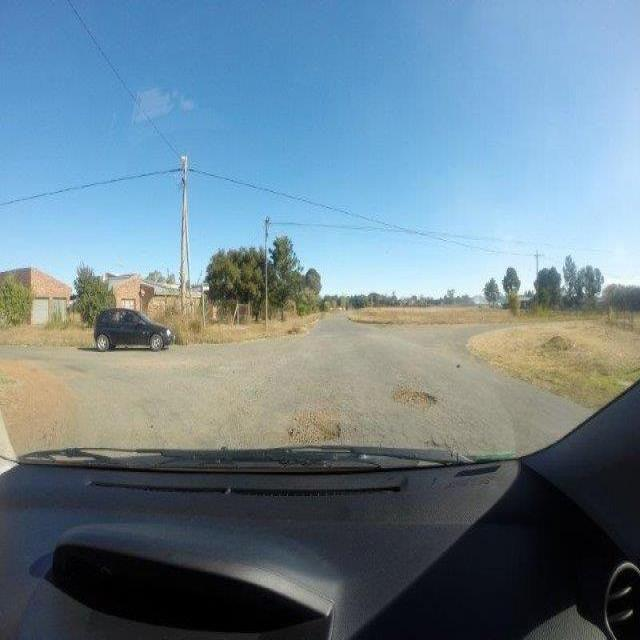jalan retak: (120, 384, 217, 446), (365, 412, 489, 451)
lubang: (274, 408, 351, 446), (384, 381, 438, 415), (56, 357, 94, 381), (2, 357, 24, 398)
